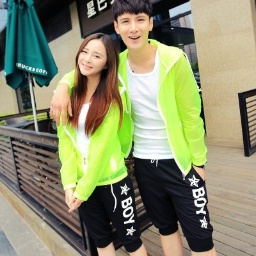face: (73, 32, 119, 83), (111, 1, 154, 52)
